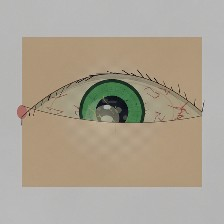corneal_ulcer: (84, 101, 128, 135)
